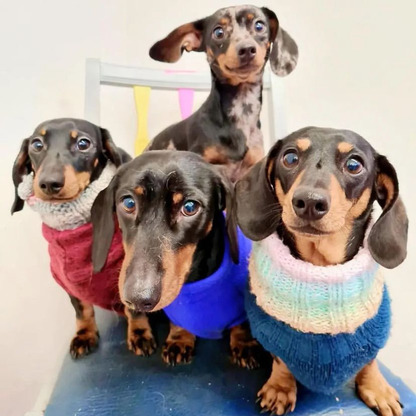dachshund: (239, 133, 404, 366), (142, 5, 322, 167), (101, 161, 237, 344), (18, 106, 110, 255)
